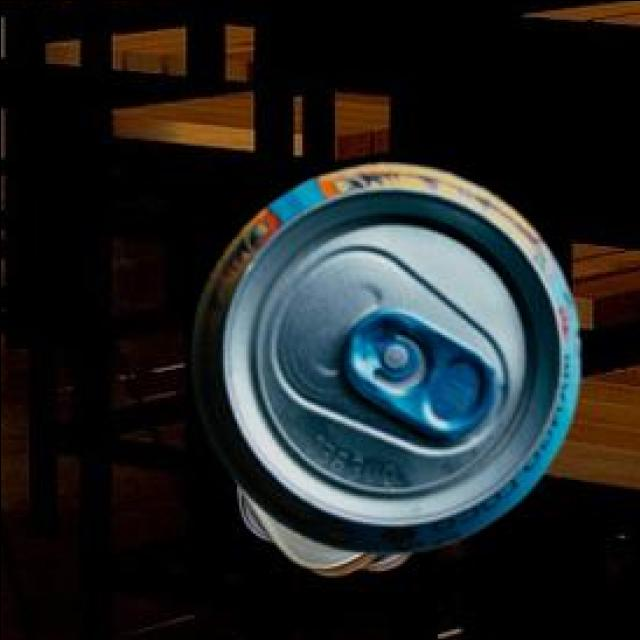logam: (195, 160, 583, 550), (241, 478, 412, 571)
